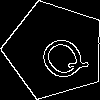Q: (30, 25, 92, 87)
